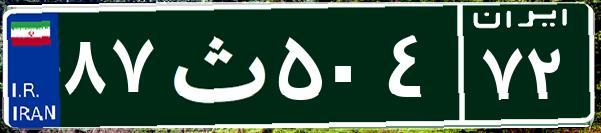0: (330, 28, 385, 110)
2: (525, 38, 570, 115)
4: (385, 28, 445, 110)
5: (273, 28, 330, 110)
7: (475, 38, 525, 113), (110, 28, 158, 105)
8: (57, 26, 110, 107)
ث: (158, 15, 273, 115)
